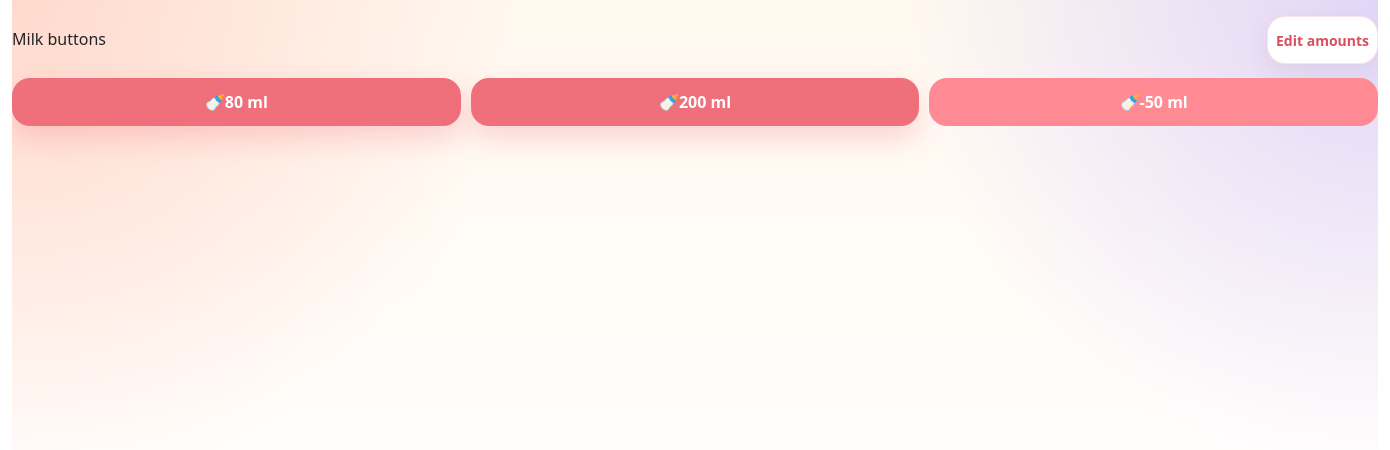
cancel discards drafts and failed saves preserve the saved buttons
The width and height of the screenshot is (1390, 450).
Expected: the button "🍼80 ml" is shown, [12,78,461,126]
Click the button "Edit amounts" at (1322, 40), box [1267,16,1378,64]
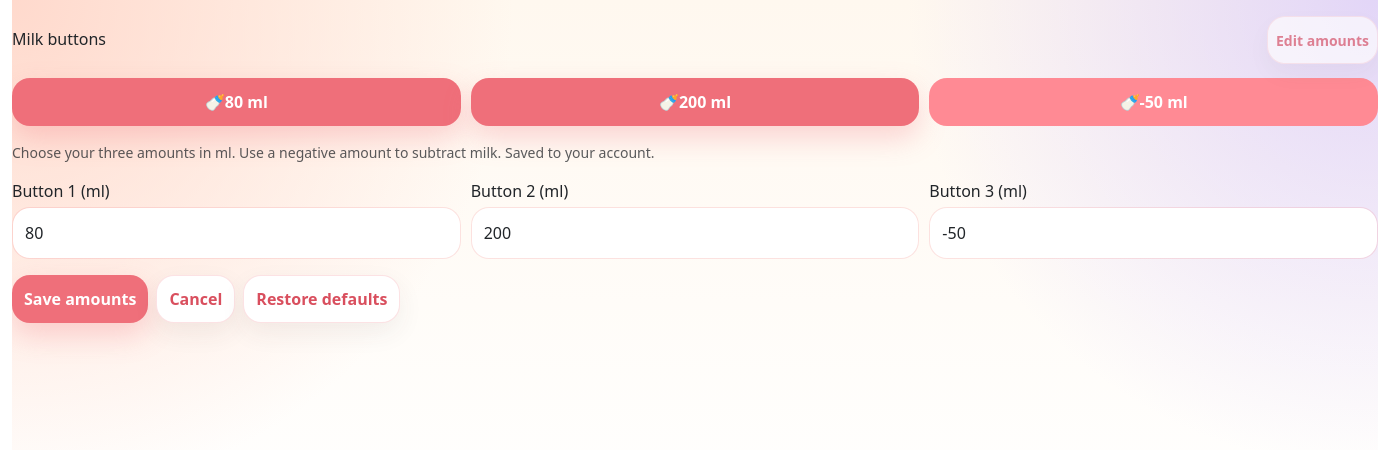
Replace the text in the number field labelled "Button 1 (ml)" with "90" at (236, 233), box [12,207,461,259]
Click the button "Cancel" at (196, 299), box [156,275,235,323]
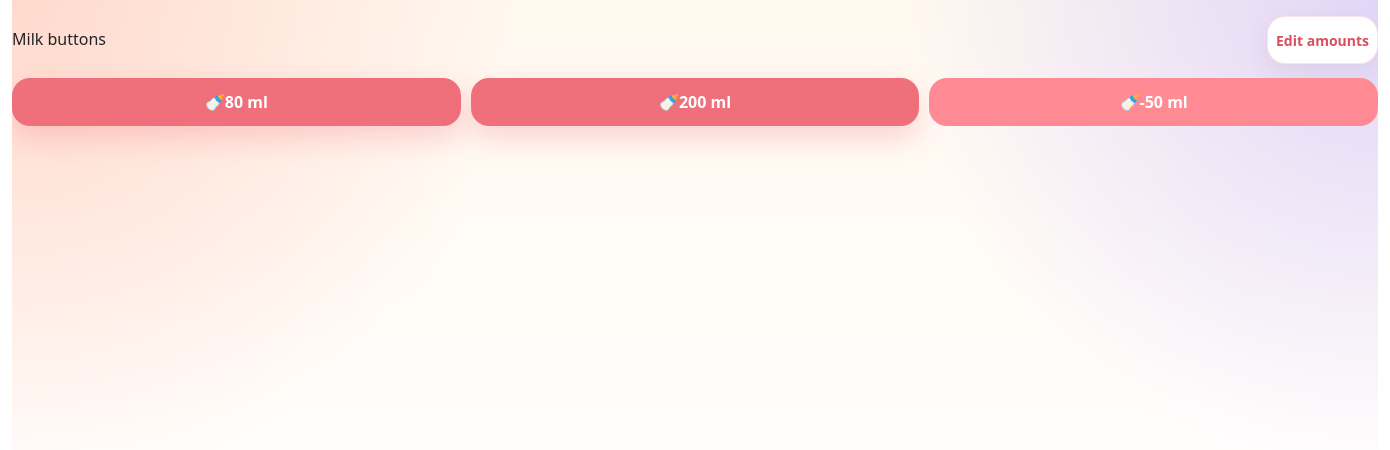
Expected: the button "🍼80 ml" is shown, [12,78,461,126]
Click the button "Edit amounts" at (1322, 40), box [1267,16,1378,64]
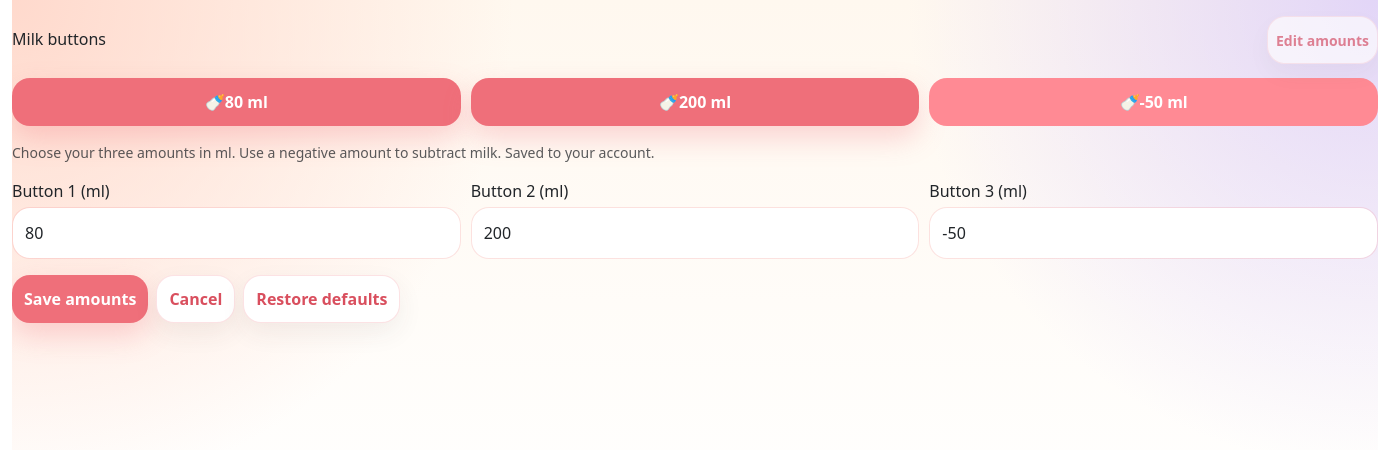
Expected: the number field labelled "Button 1 (ml)" holds "80"
Replace the text in the number field labelled "Button 1 (ml)" with "0" at (236, 233), box [12,207,461,259]
Click the button "Save amounts" at (80, 299), box [12,275,148,323]
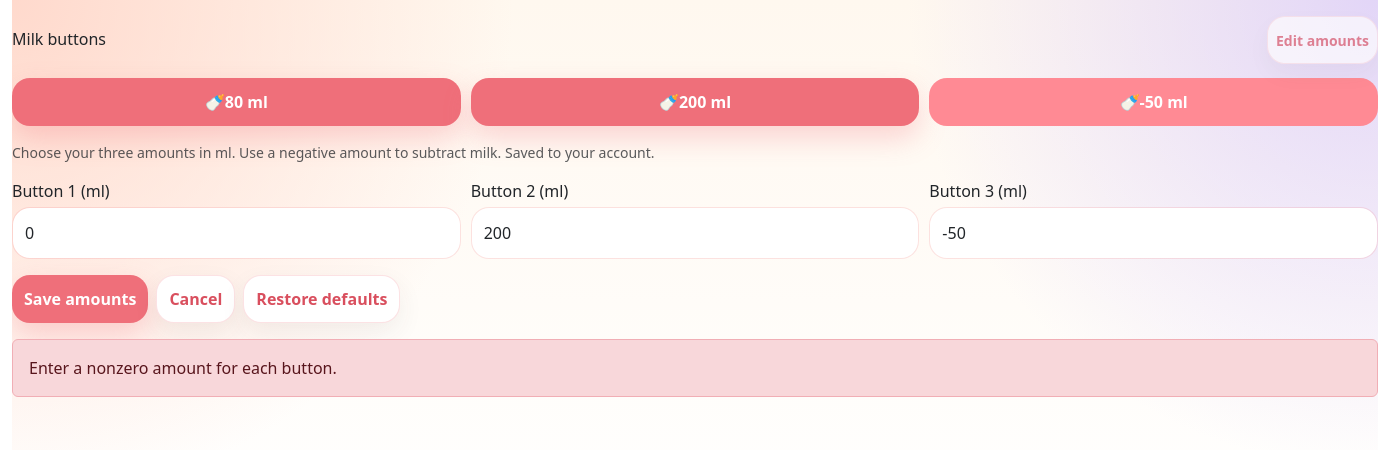
Expected: the message shows "nonzero", [29,357,337,379]
Replace the text in the number field labelled "Button 1 (ml)" with "90" at (236, 233), box [12,207,461,259]
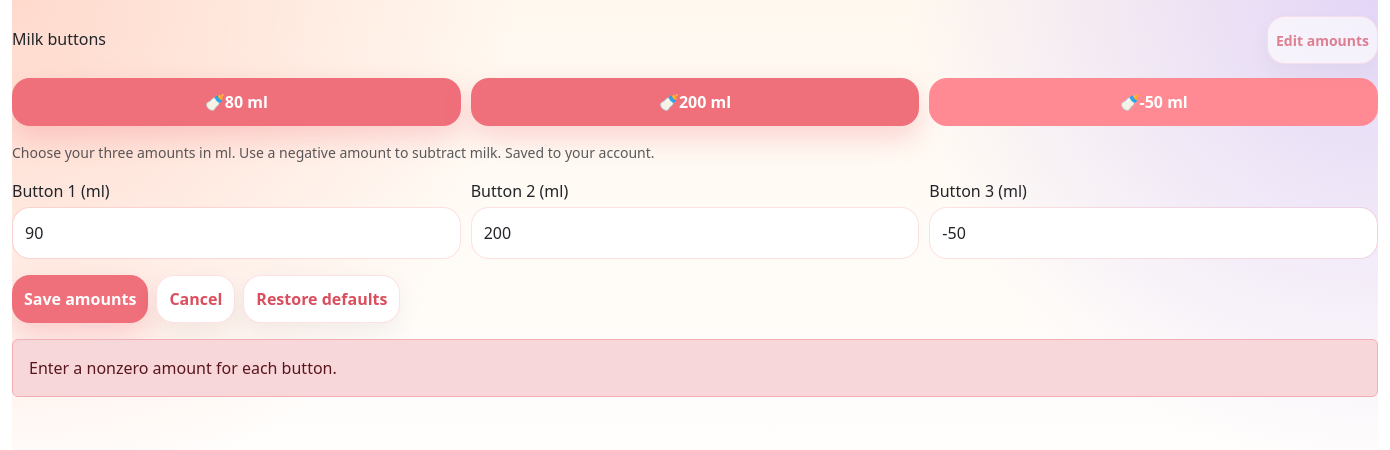
Click the button "Save amounts" at (80, 299), box [12,275,148,323]
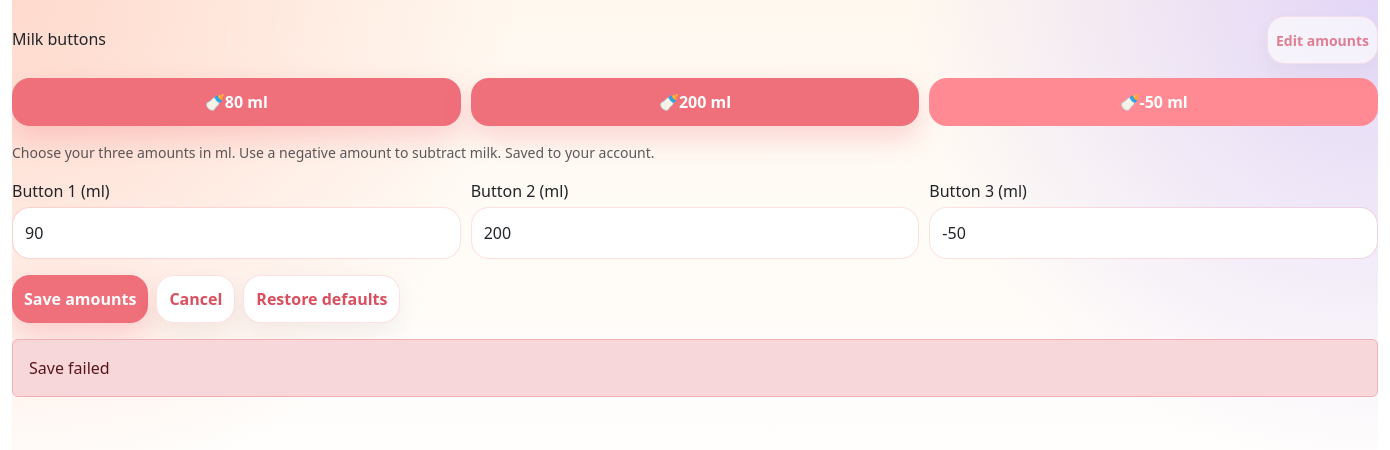
Expected: the button "🍼80 ml" is shown, [12,78,461,126]
Expected: the message reads "Save failed", [29,357,110,379]
